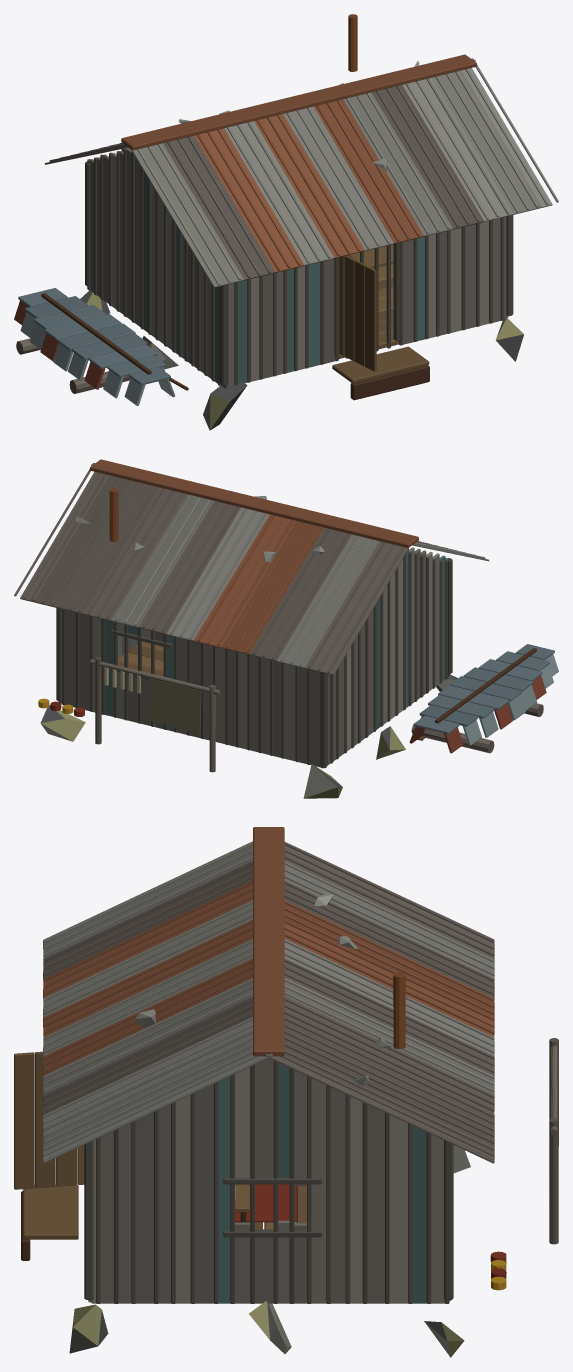
File: cabin-shack.glb
The picture shows the model from 3 angles, top to bottom: view 1: azimuth 30°, elevation 25°; view 2: azimuth 150°, elevation 25°; view 3: azimuth 270°, elevation 25°; orthographic projection. The views are drawn at different scales.
Parts seen in each view (by area): view 1: shack-roof, shack-wall-front, shack-wall-left, shack-outside, shack-floor, shack-wall-back; view 2: shack-roof, shack-wall-back, shack-wall-left, shack-outside, shack-floor, shack-wall-front; view 3: shack-roof, shack-wall-right, shack-floor, shack-wall-front, shack-outside, shack-inside, shack-wall-back.
Part boxes in pixels (<box>): shack-roof: <box>44,14,558,287</box>; shack-wall-front: <box>219,215,513,388</box>; shack-wall-left: <box>87,148,223,387</box>; shack-outside: <box>14,147,188,405</box>; shack-floor: <box>80,263,523,430</box>; shack-wall-back: <box>85,161,90,286</box>; shack-roof: <box>14,459,489,675</box>; shack-wall-back: <box>56,608,327,768</box>; shack-wall-left: <box>324,547,447,768</box>; shack-outside: <box>38,644,558,772</box>; shack-floor: <box>40,642,457,798</box>; shack-wall-front: <box>448,558,452,676</box>; shack-roof: <box>43,827,494,1163</box>; shack-wall-right: <box>91,1058,449,1303</box>; shack-floor: <box>21,1145,470,1357</box>; shack-wall-front: <box>14,1051,93,1302</box>; shack-outside: <box>490,1038,558,1290</box>; shack-inside: <box>235,1184,296,1222</box>; shack-wall-back: <box>444,1140,453,1300</box>.
Size of the model in its own units: 8.61 by 4.92 by 6.88.
